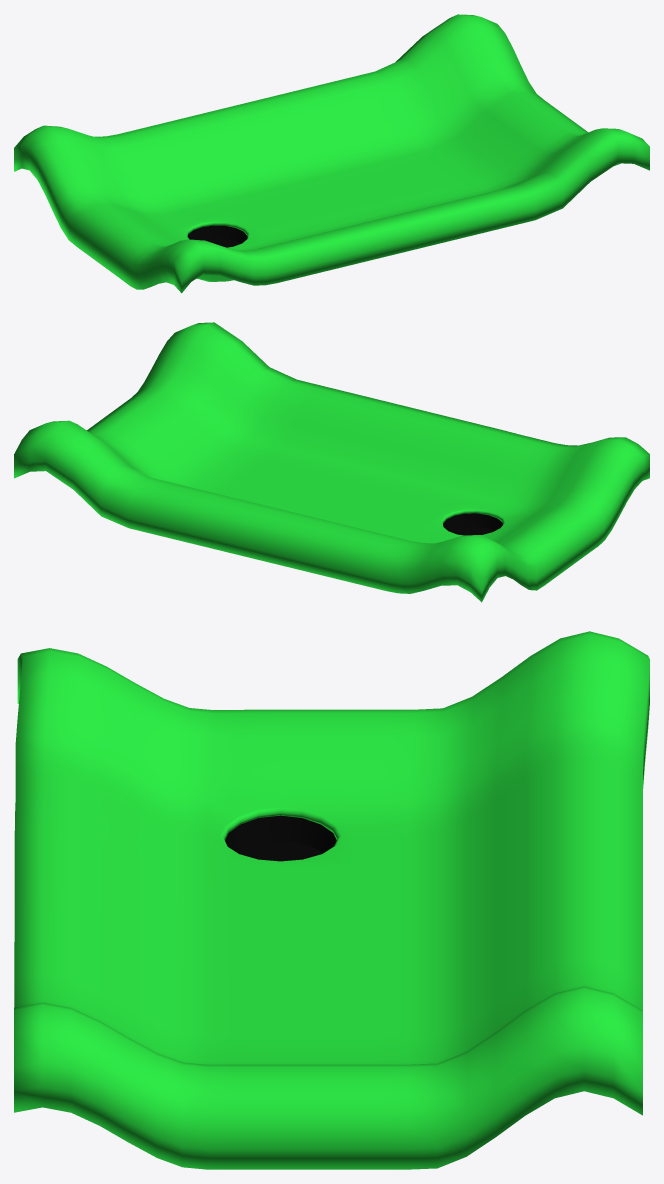
File: campo_golf_2.fbx
The picture shows the model from 3 angles, top to bottom: view 1: azimuth 30°, elevation 25°; view 2: azimuth 150°, elevation 25°; view 3: azimuth 270°, elevation 25°; orthographic projection. The views are drawn at different scales.
Visible parts, largest first — view 1: terreno2; view 2: terreno2; view 3: terreno2.
Boxes of the visible parts, x1=… form: terreno2: x1=14, y1=14, x2=649, y2=293; terreno2: x1=14, y1=322, x2=649, y2=602; terreno2: x1=14, y1=631, x2=649, y2=1169.
Size of the model in its own units: 1028 by 216 by 648.
